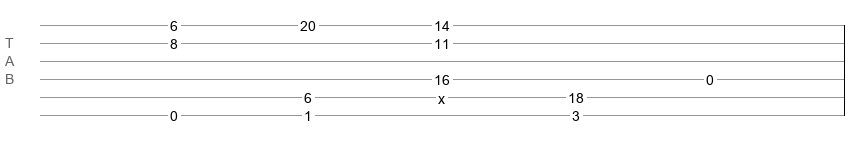0: (170, 108, 178, 118), (706, 72, 714, 82)
1: (304, 108, 312, 118)
11: (434, 36, 450, 46)
14: (434, 18, 450, 28)
16: (434, 72, 450, 82)
18: (568, 90, 584, 100)
20: (300, 18, 316, 28)
3: (572, 108, 580, 118)
6: (170, 18, 178, 28), (304, 90, 312, 100)
8: (170, 36, 178, 46)
x: (438, 91, 445, 99)
